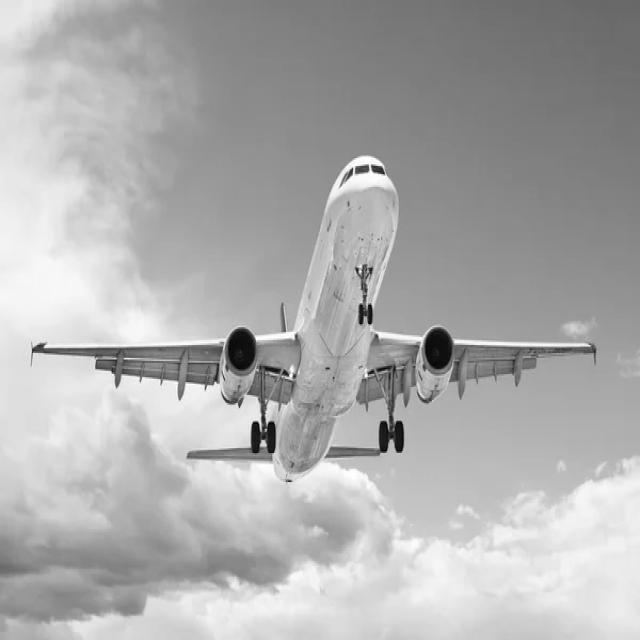Aircraft: (24, 149, 602, 470)
